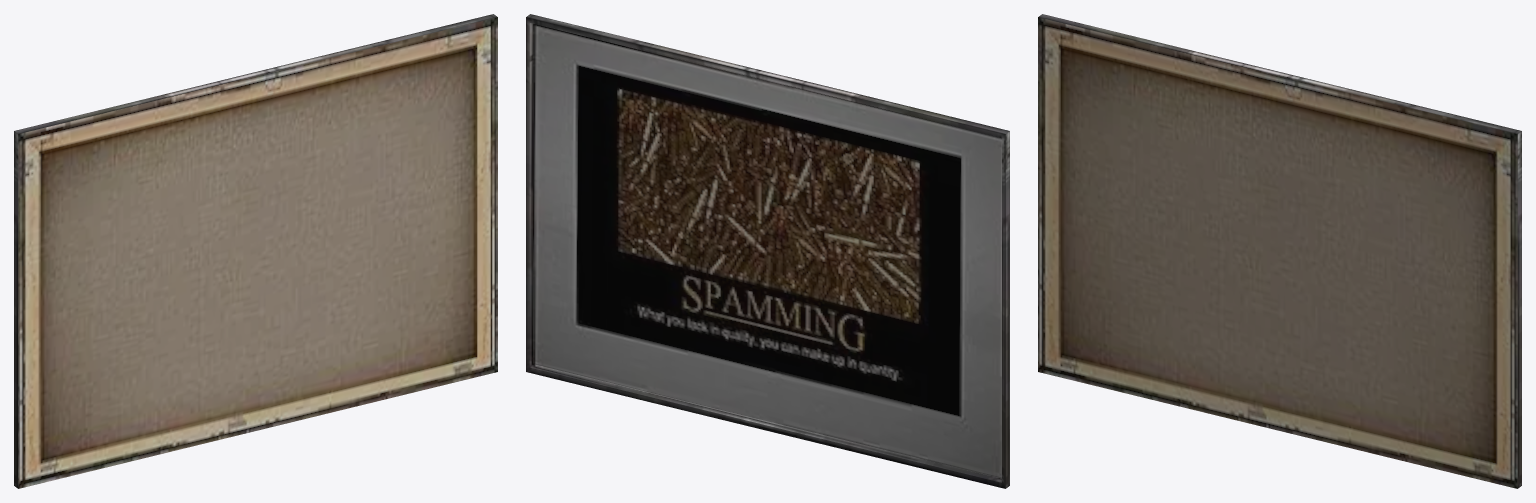
The model's file is offinspa.glb.
The picture shows the model from 3 angles, left to right: view 1: azimuth 30°, elevation 25°; view 2: azimuth 150°, elevation 25°; view 3: azimuth 330°, elevation 25°; orthographic projection.
Parts seen in each view (by area): view 1: 0_Poster_backing, 1_offinspa; view 2: 1_offinspa; view 3: 0_Poster_backing, 1_offinspa.
Part boxes in pixels (bbox=[...]): 0_Poster_backing: bbox=[18, 17, 497, 488]; 1_offinspa: bbox=[14, 14, 497, 488]; 1_offinspa: bbox=[526, 14, 1009, 488]; 0_Poster_backing: bbox=[1038, 17, 1517, 488]; 1_offinspa: bbox=[1038, 14, 1521, 488].
Size of the model in its own units: 1.16 by 0.8171 by 0.0178.
Materials: 2 (2 with a texture image).
